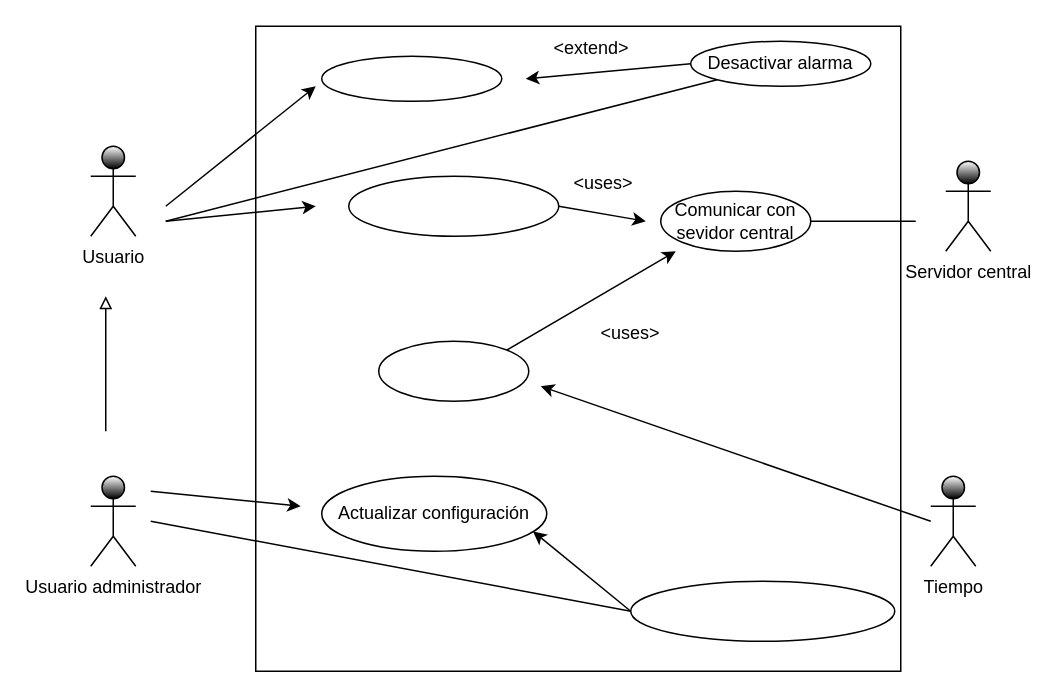
The diagram is 1058 pixels wide and 698 high, and some of its shapes have lost their labels. Here are the shapes that lost their labels. From the top down, the centre of each, then its label:
At point 411,78: "Armar alarma".
At point 453,205: "Activar alarma silenciosa".
At point 453,370: "Verificar sensores".
At point 762,610: "Modificar códigos de acceso".
